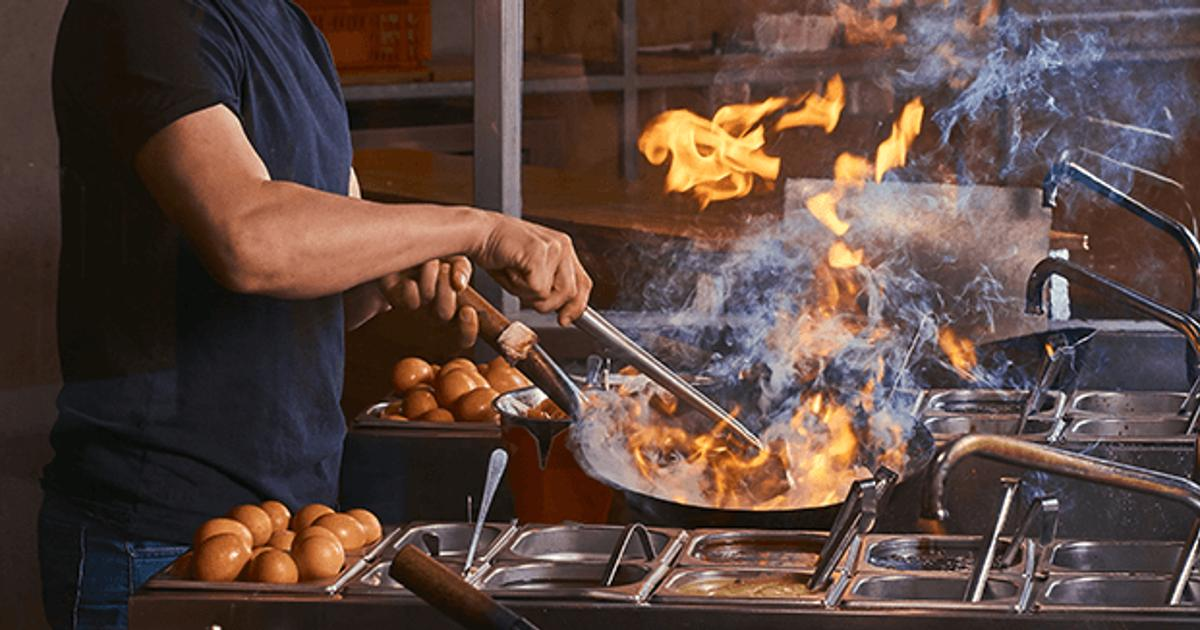controlled_fire: (509, 48, 1022, 563)
